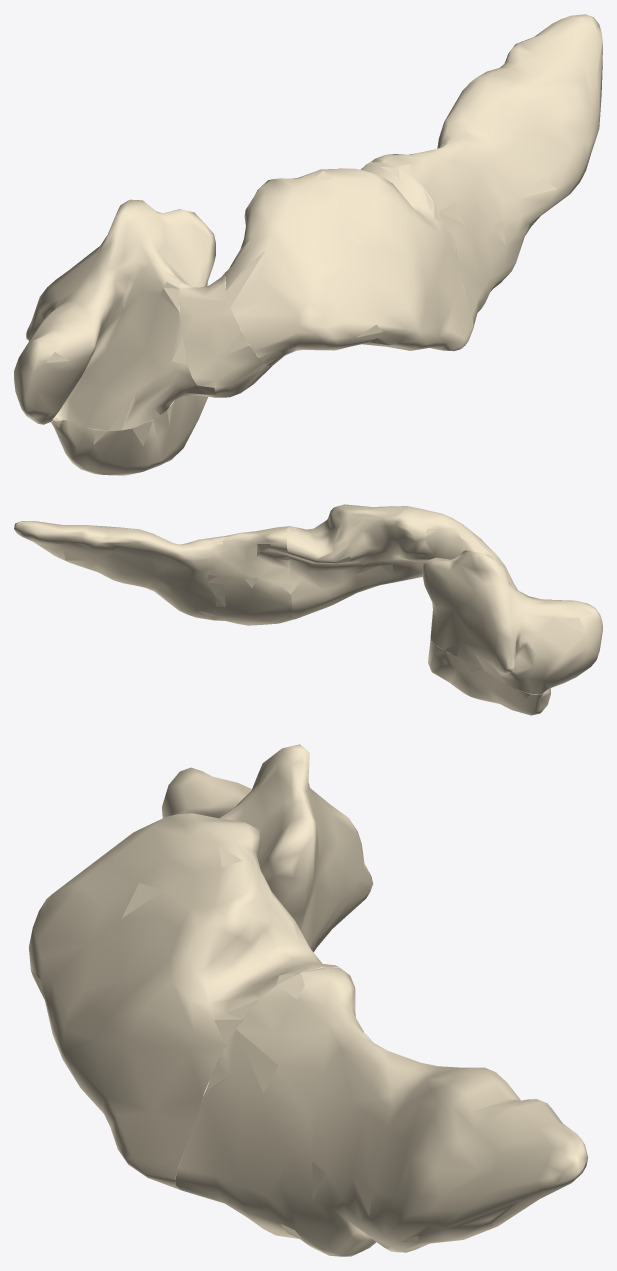
The model's file is 3d-vh-f-pancreas.glb.
3 views of the same model, one above another, from view 1: azimuth 30°, elevation 25°; view 2: azimuth 150°, elevation 25°; view 3: azimuth 270°, elevation 25° (orthographic). The views are drawn at different scales.
Parts seen in each view (by area): view 1: VH_F_body_of_pancreas, VH_F_tail_of_pancreas, VH_F_head_of_pancreas, VH_F_neck_of_pancreas, VH_F_ucinate_process1; view 2: VH_F_tail_of_pancreas, VH_F_head_of_pancreas, VH_F_body_of_pancreas, VH_F_ucinate_process1; view 3: VH_F_tail_of_pancreas, VH_F_body_of_pancreas, VH_F_head_of_pancreas.
Boxes of the visible parts, x1,y1,x2,y2 form: VH_F_body_of_pancreas: (225,162,473,365); VH_F_tail_of_pancreas: (371,14,602,328); VH_F_head_of_pancreas: (14,199,215,431); VH_F_neck_of_pancreas: (179,273,272,397); VH_F_ucinate_process1: (50,395,207,475); VH_F_tail_of_pancreas: (14,521,294,625); VH_F_head_of_pancreas: (422,550,602,694); VH_F_body_of_pancreas: (287,504,497,619); VH_F_ucinate_process1: (428,639,550,715); VH_F_tail_of_pancreas: (175,967,588,1256); VH_F_body_of_pancreas: (28,813,338,1189); VH_F_head_of_pancreas: (162,744,373,982).
Bounding box in the file's own units: 0.1719 × 0.0566 × 0.0844.
